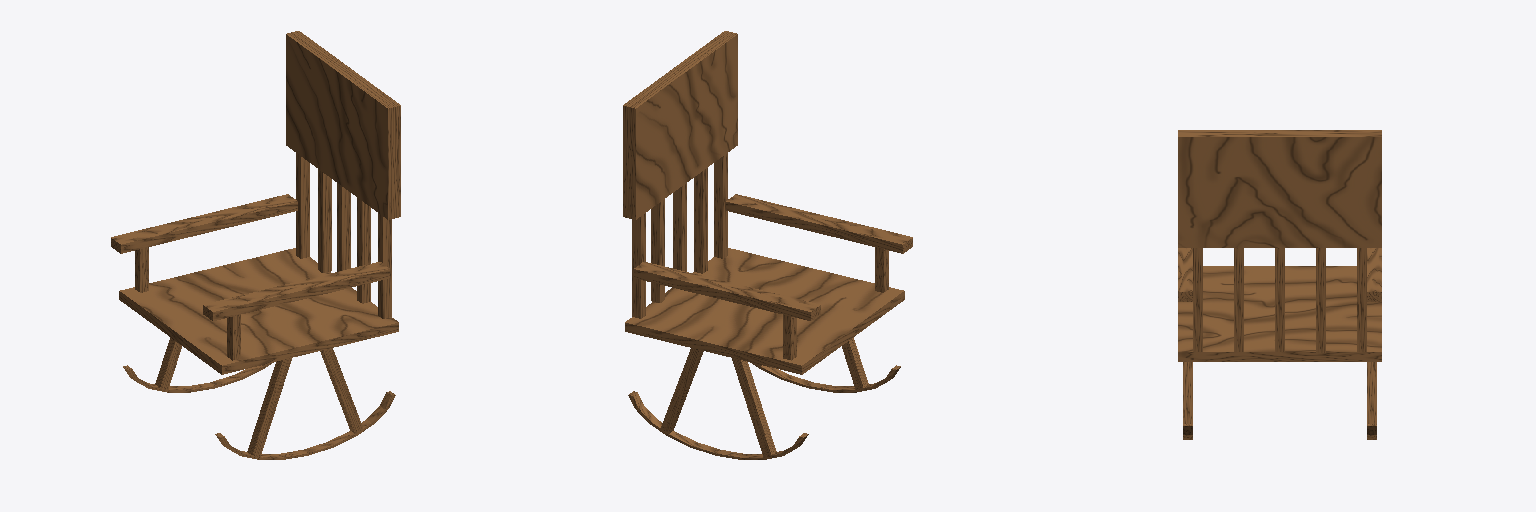
The picture shows the model from 3 angles: view 1: azimuth 30°, elevation 25°; view 2: azimuth 150°, elevation 25°; view 3: azimuth 270°, elevation 25°; orthographic projection.
Visible parts, largest first — view 1: pasted__pCube17 group; view 2: pasted__pCube17 group; view 3: pasted__pCube17 group.
Boxes of the visible parts, box(x1,y1,x2,y2) form: pasted__pCube17 group: box(111, 31, 400, 459); pasted__pCube17 group: box(623, 31, 912, 459); pasted__pCube17 group: box(1178, 130, 1381, 439).
Bounding box in the file's own units: 1.06 × 1.78 × 1.
Materials: 1 (1 with a texture image).